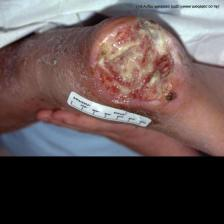Wound: (89, 15, 181, 107)
